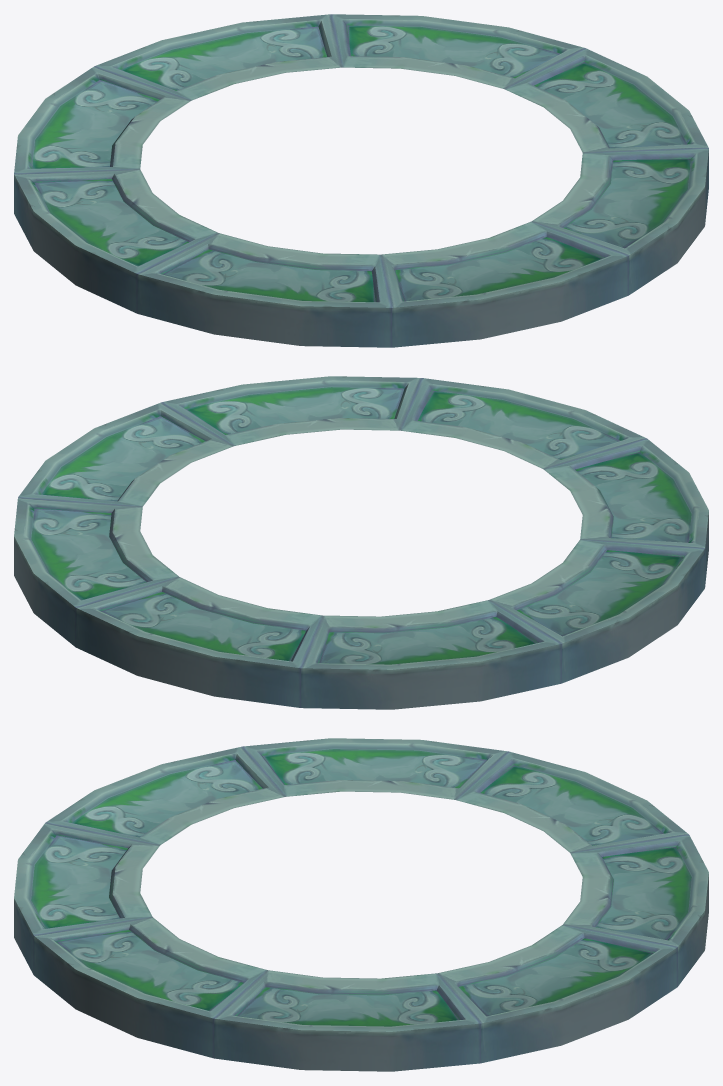
Rendered from mld_platform_01_1.FBX.
The picture shows the model from 3 angles, top to bottom: view 1: azimuth 30°, elevation 25°; view 2: azimuth 150°, elevation 25°; view 3: azimuth 270°, elevation 25°; orthographic projection.
Visible parts, largest first — view 1: mld_platform_01_1; view 2: mld_platform_01_1; view 3: mld_platform_01_1.
Part boxes in pixels (<box>): mld_platform_01_1: <box>14,14,708,347</box>; mld_platform_01_1: <box>14,376,708,709</box>; mld_platform_01_1: <box>14,738,708,1071</box>.
Bounding box in the file's own units: 1937 × 123 × 1937.
